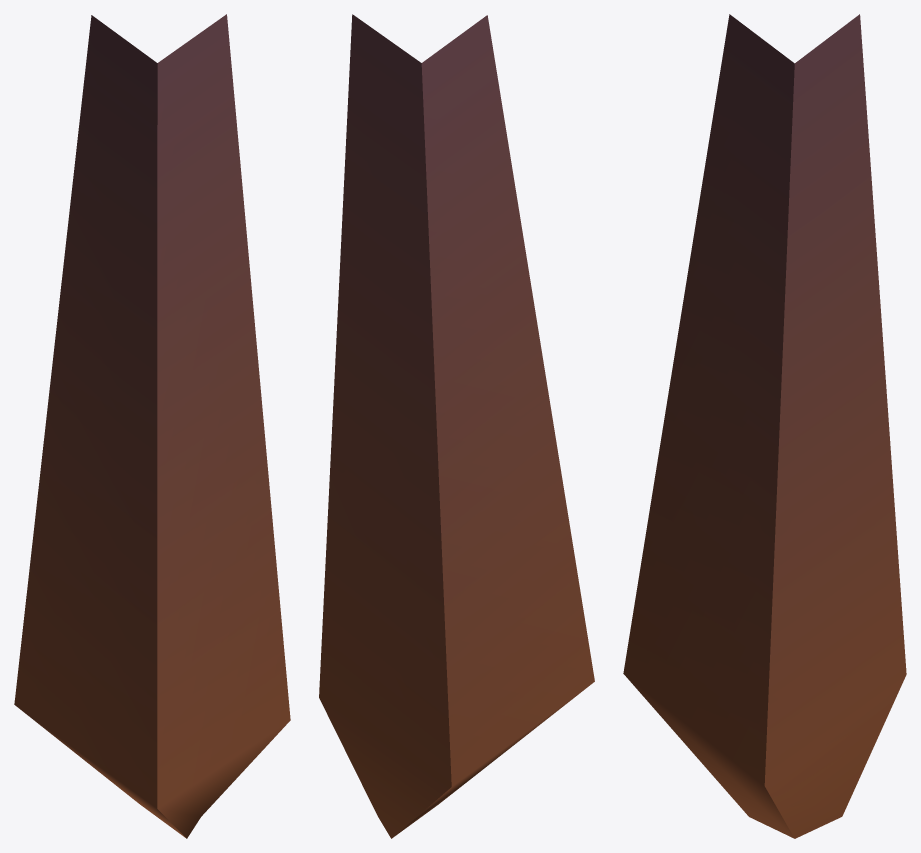
File: Stalactite003.glb
3 renders of one model, left to right at view 1: azimuth 30°, elevation 25°; view 2: azimuth 150°, elevation 25°; view 3: azimuth 270°, elevation 25°, orthographic.
Parts seen in each view (by area): view 1: Stalactite003; view 2: Stalactite003; view 3: Stalactite003.
Boxes of the visible parts, <box> form: Stalactite003: <box>14,14,290,838</box>; Stalactite003: <box>319,14,594,838</box>; Stalactite003: <box>623,14,906,838</box>.
Bounding box in the file's own units: 143 × 532 × 173.
1 material, 1 textured.
